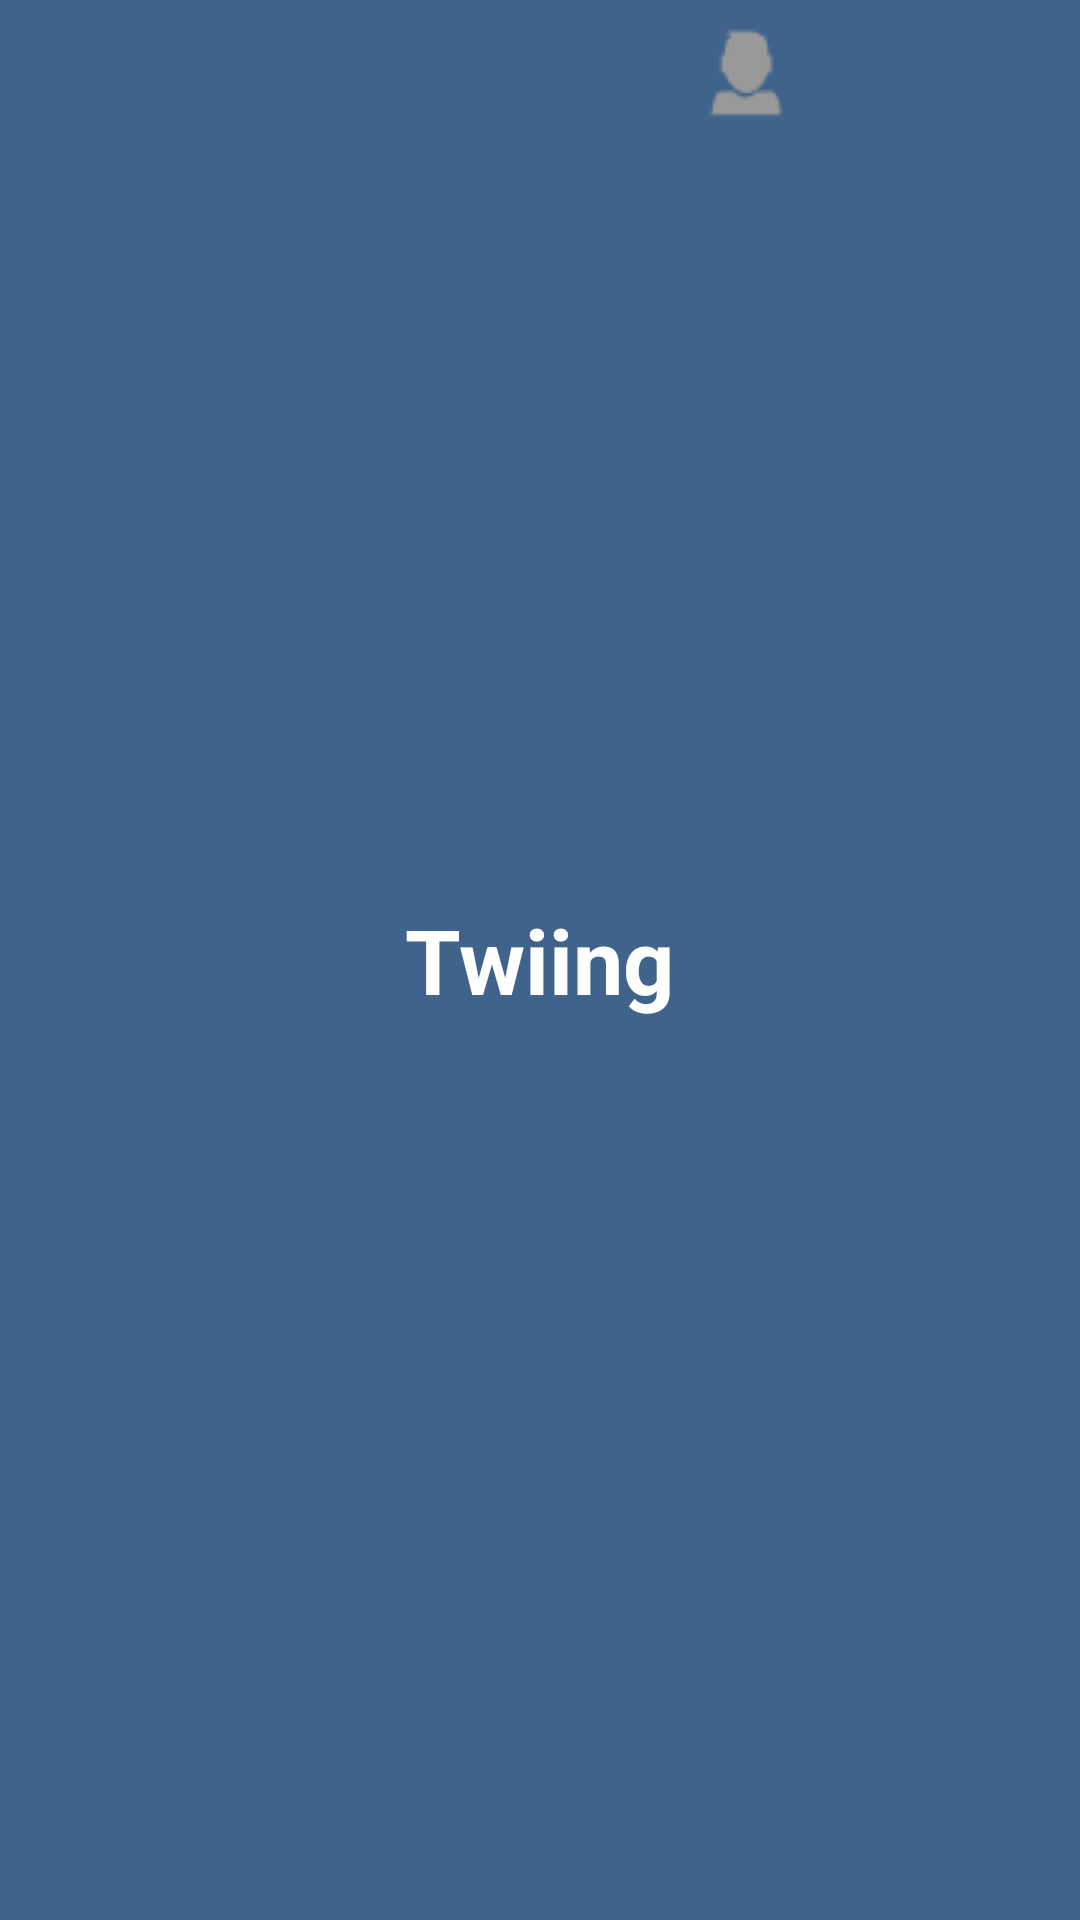

Screen size 1080px x 1920px. Icon name, then its box in pixels as (x1,y1,x2,y2):
profile: (711,30,782,115)
